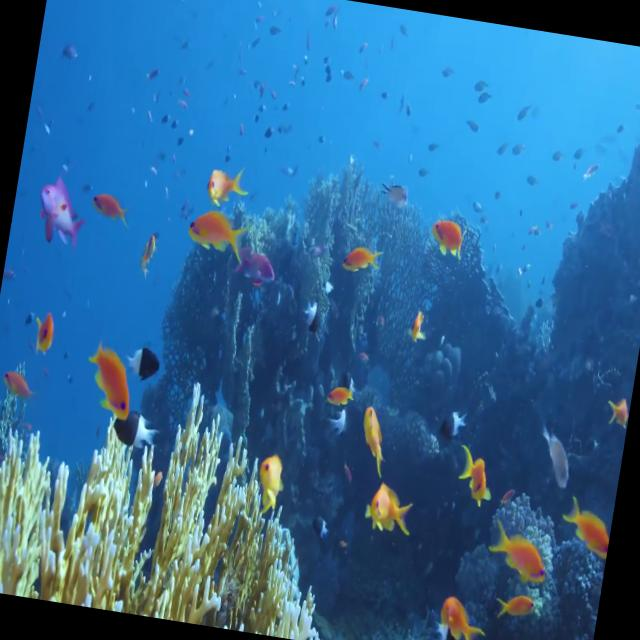fish: (26, 166, 94, 258), (80, 334, 142, 429), (479, 514, 557, 589), (180, 203, 251, 270), (358, 470, 420, 541), (558, 490, 616, 565), (448, 437, 501, 518), (198, 150, 260, 216), (528, 419, 579, 495), (349, 403, 400, 472), (427, 590, 490, 640), (424, 206, 472, 266), (252, 448, 290, 523), (82, 182, 135, 234), (339, 226, 386, 280), (488, 578, 536, 630), (0, 357, 44, 413), (130, 220, 164, 288), (374, 172, 415, 217), (399, 296, 433, 348), (600, 380, 634, 432), (436, 397, 475, 442), (30, 304, 59, 356), (298, 298, 329, 344), (324, 378, 356, 409)
